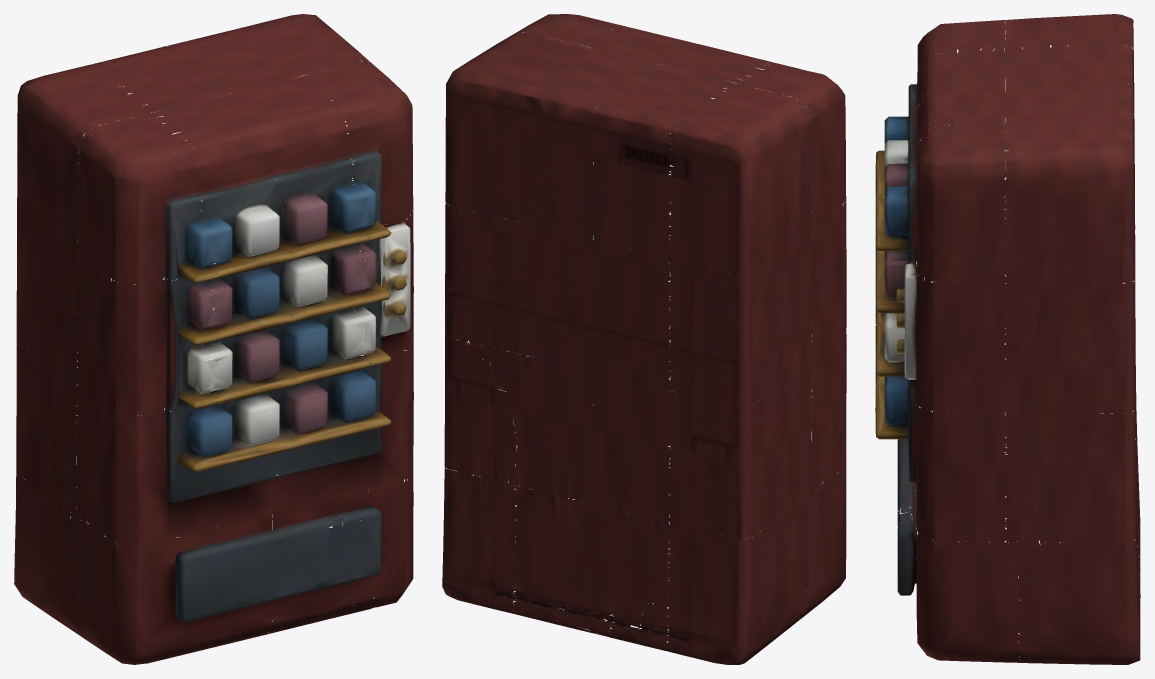
The model's file is snack-vending-hi3d-512-CcJpvD6y.glb.
The picture shows the model from 3 angles, left to right: view 1: azimuth 30°, elevation 25°; view 2: azimuth 150°, elevation 25°; view 3: azimuth 270°, elevation 25°; orthographic projection.
Parts seen in each view (by area): view 1: world; view 2: world; view 3: world.
Boxes of the visible parts, x1,y1,x2,y2 form: world: (14, 14, 413, 664); world: (442, 14, 846, 664); world: (875, 14, 1140, 664).
Bounding box in the file's own units: 1.25 × 2.05 × 0.9494.
1 material, 1 textured.
